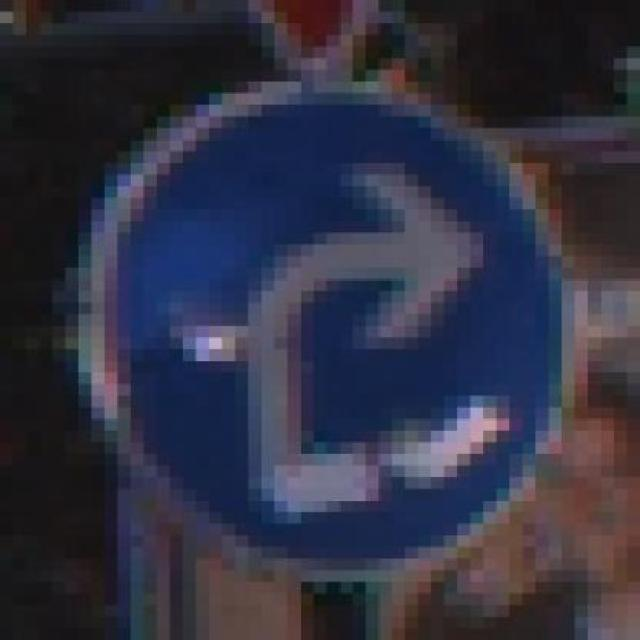Turn right ahead: (90, 46, 588, 582)
